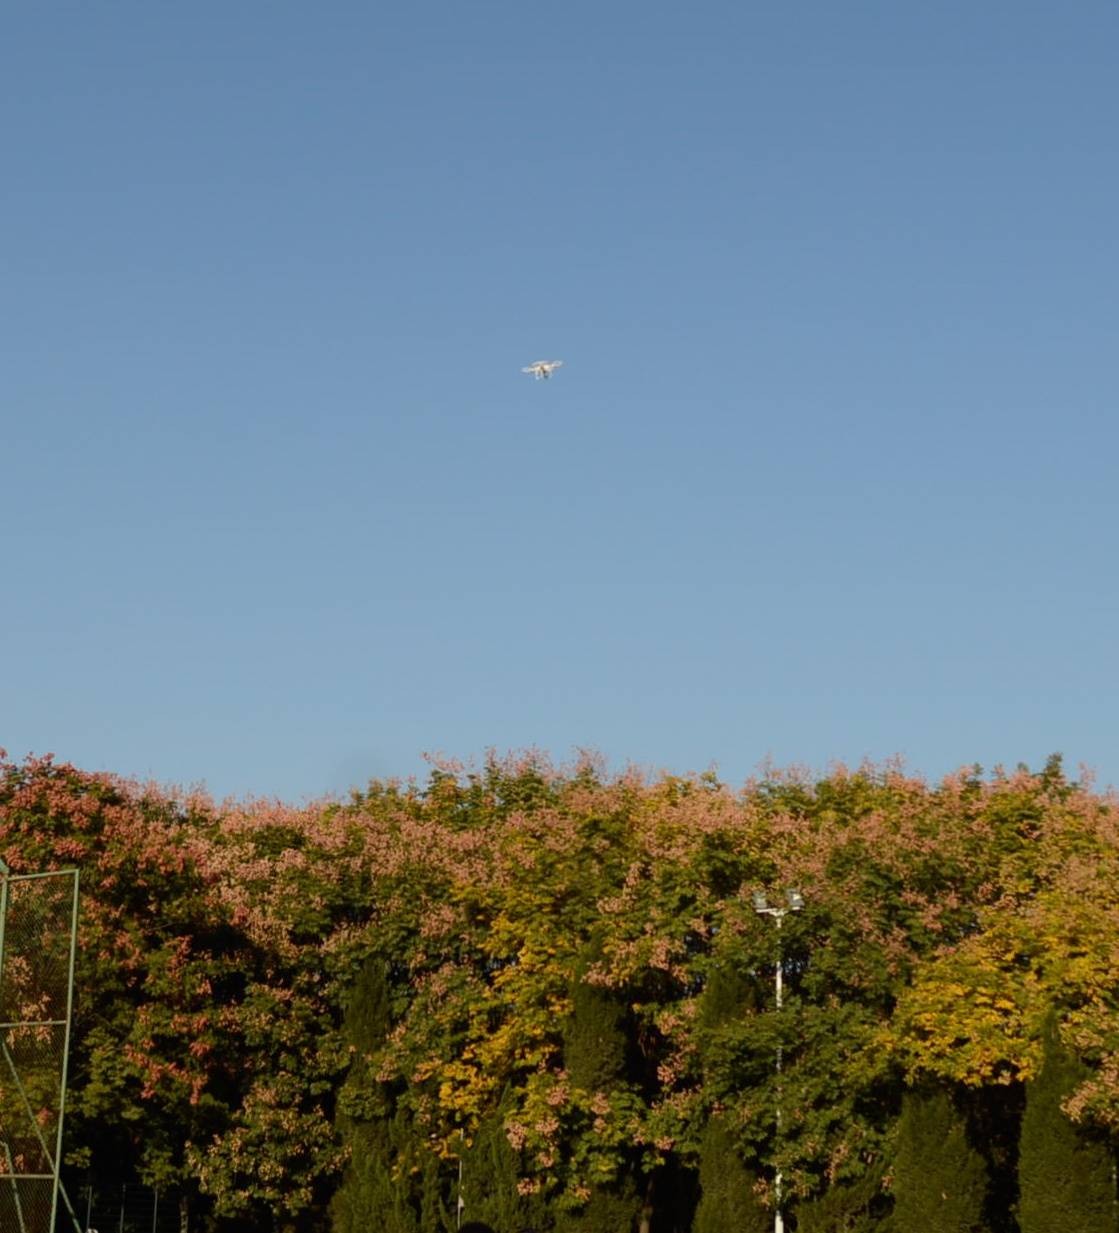DJI: (520, 359, 563, 381)
